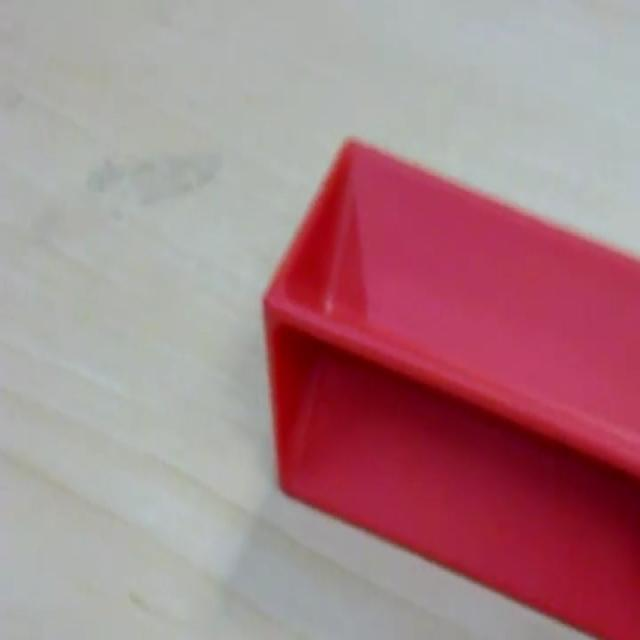red_block: (261, 133, 639, 636)
